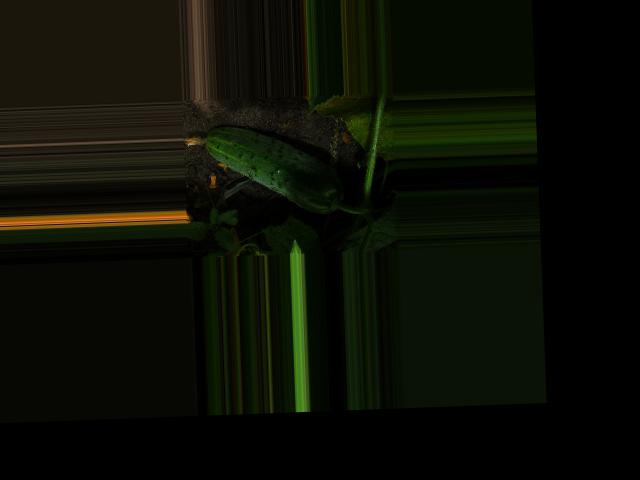cucumber: (183, 120, 344, 219)
